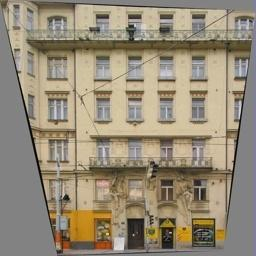building: (38, 1, 226, 249)
